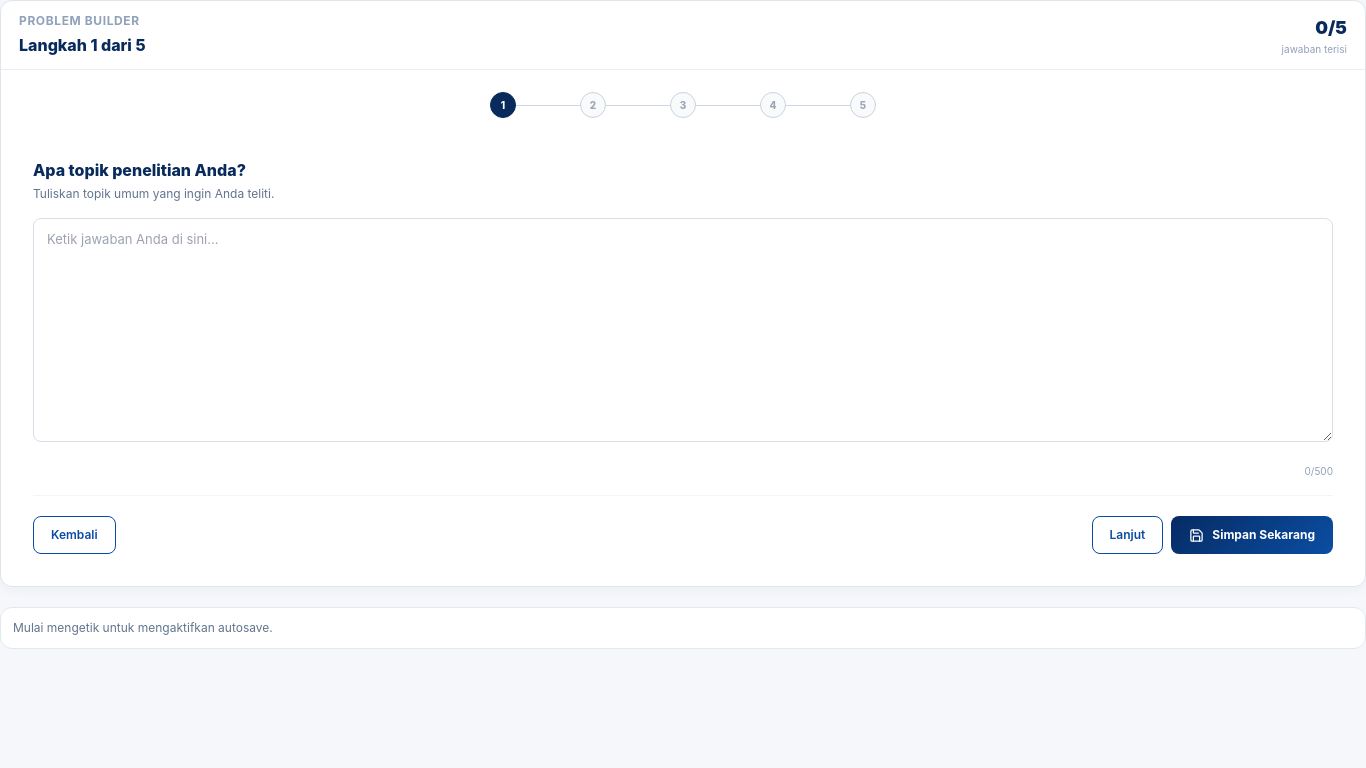
Test: Problem Builder autosave › allows a failed autosave to be retried
Type "Topik retry" into the text box named "Apa topik penelitian Anda?" at (683, 330), box [33,218,1333,442]
Wait 1200 ms
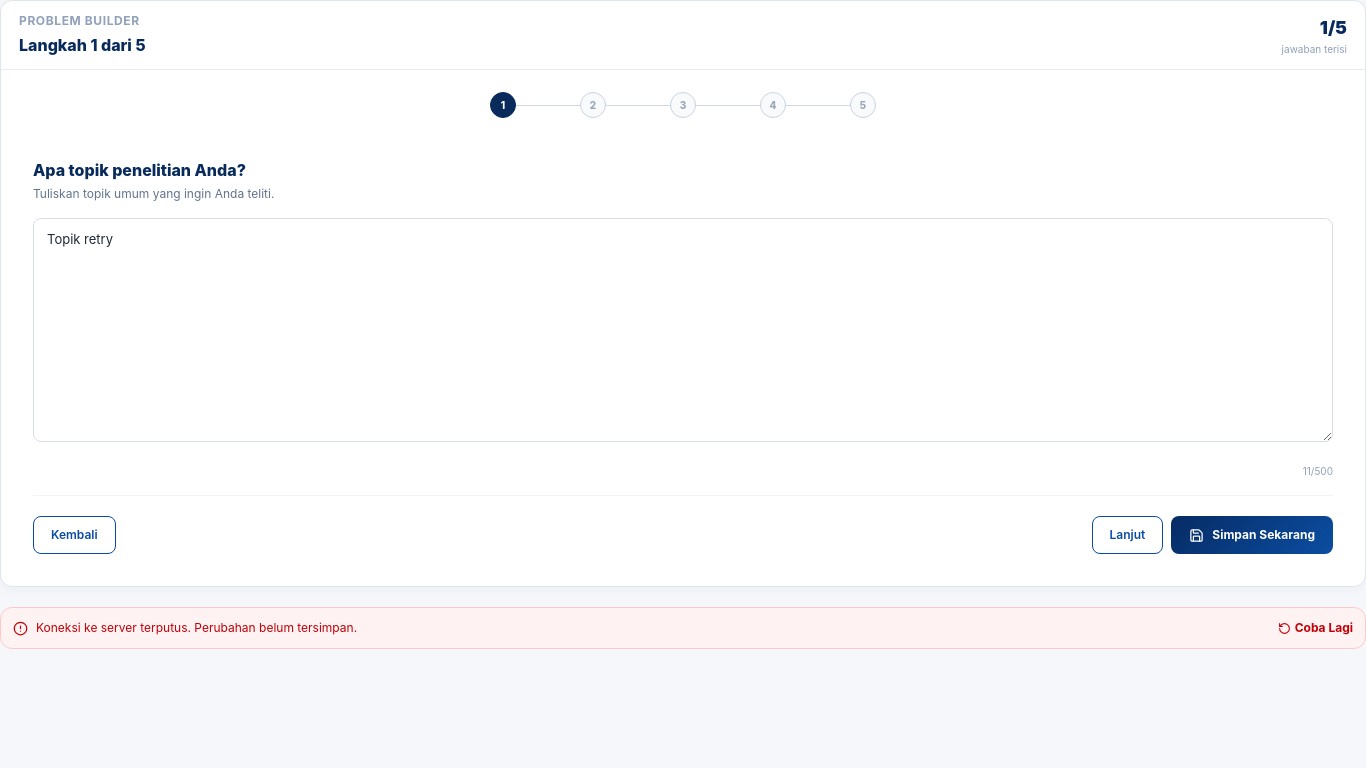
Check: the text "Koneksi ke server terputus. Perubahan belum tersimpan." is shown, box [36,620,357,635]
Click the button "Coba Lagi" at (1315, 628), box [1278,620,1353,636]
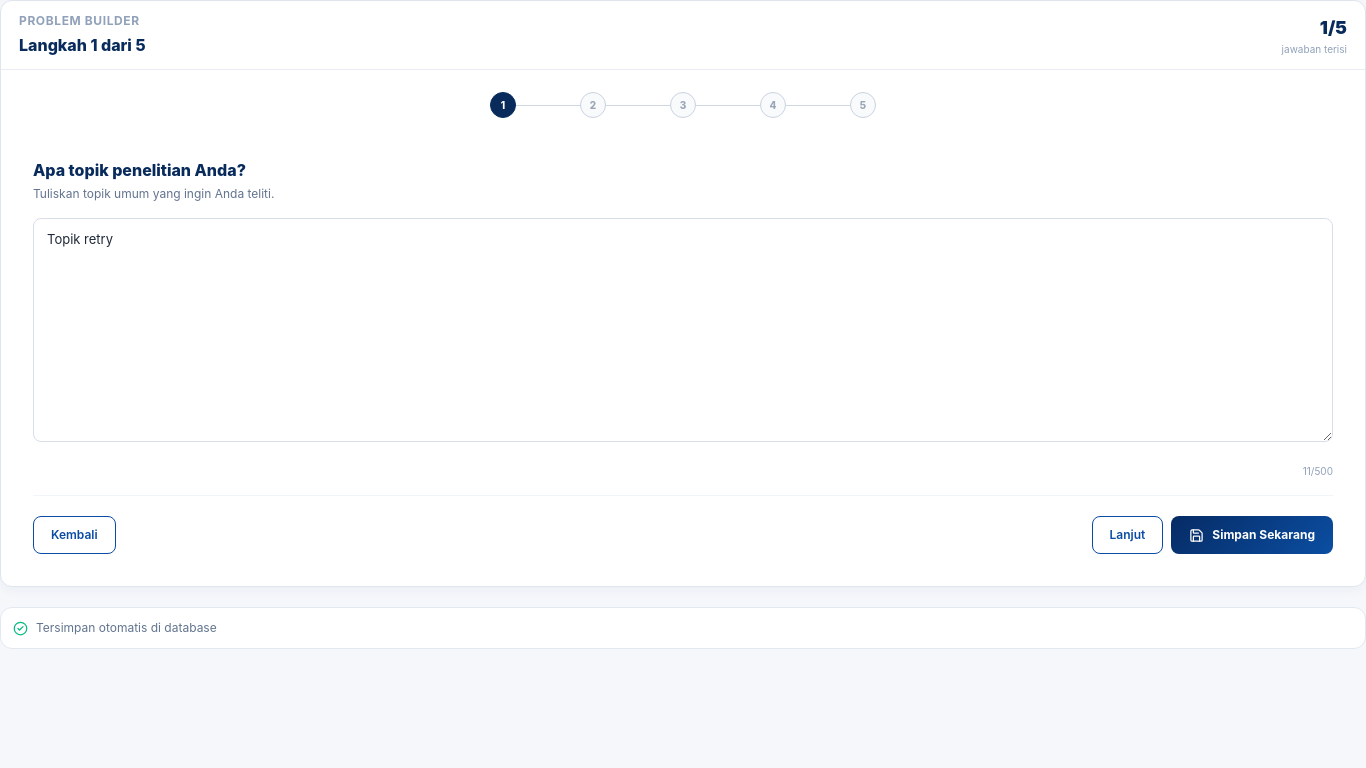
Check: the text "Tersimpan otomatis di database" is shown, box [0,607,1365,649]
